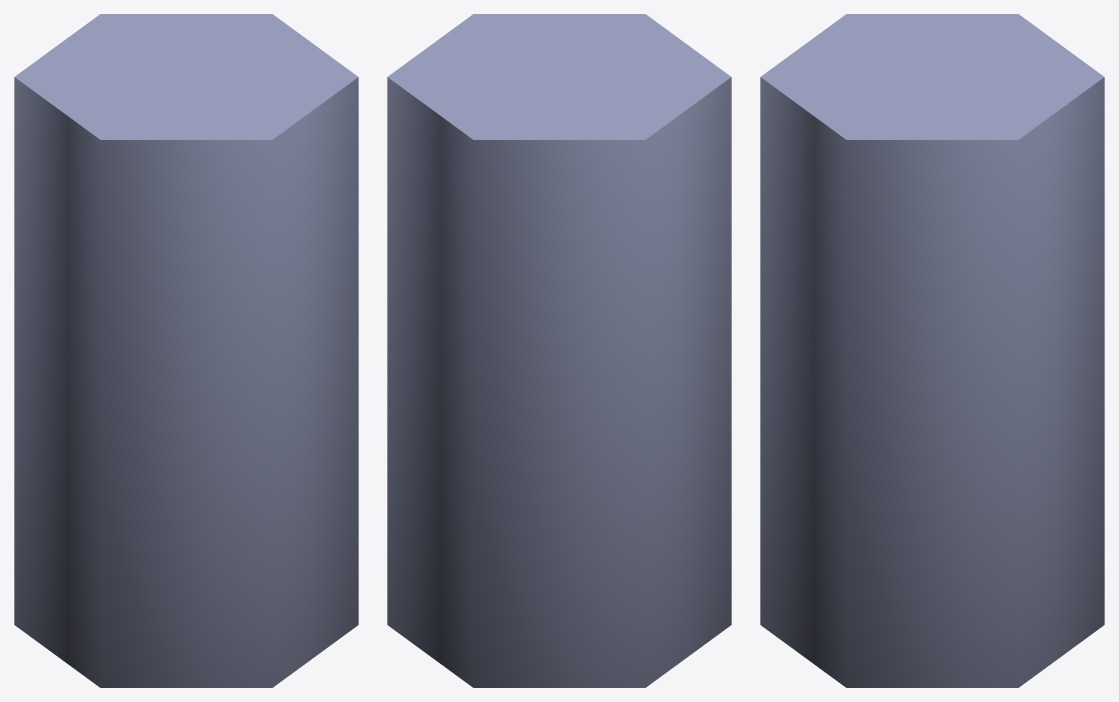
Rendered from pipe.glb.
3 renders of one model, left to right at view 1: azimuth 30°, elevation 25°; view 2: azimuth 150°, elevation 25°; view 3: azimuth 270°, elevation 25°, orthographic.
Parts seen in each view (by area): view 1: pipe; view 2: pipe; view 3: pipe.
Part boxes in pixels (box(x1,y1,x2,y2)): pipe: box(14, 14, 358, 687); pipe: box(387, 14, 731, 687); pipe: box(760, 14, 1104, 687).
Size of the model in its own units: 0.2464 by 0.5 by 0.2845.
